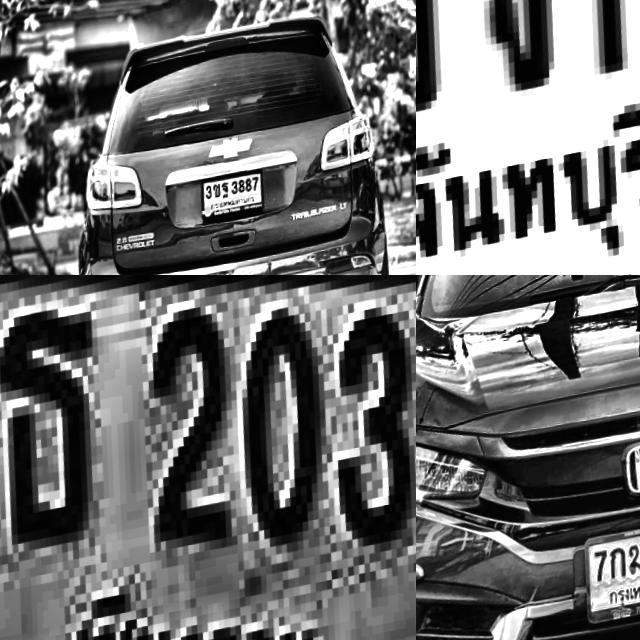license-plate: (0, 275, 416, 640), (416, 0, 640, 275), (585, 516, 640, 631), (201, 171, 274, 228)
